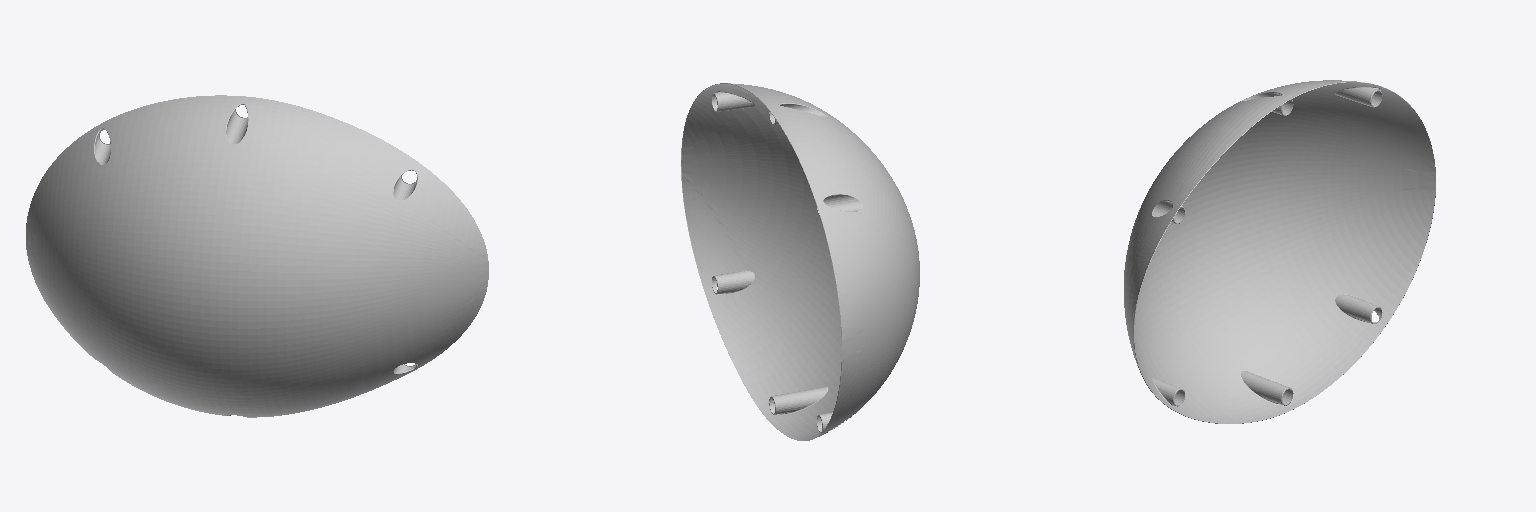
Rendered from geo-a27263b1-7dec-4dfb-ab1a-37b21da91a93.obj.
The picture shows the model from 3 angles: view 1: azimuth 30°, elevation 25°; view 2: azimuth 150°, elevation 25°; view 3: azimuth 270°, elevation 25°; orthographic projection.
Parts seen in each view (by area): view 1: 0; view 2: 0; view 3: 0.
Part boxes in pixels (x1,y1,x2,y2): 0: (26, 95, 488, 417); 0: (681, 83, 919, 440); 0: (1124, 80, 1435, 423).
Bounding box in the file's own units: 156 × 145 × 132.